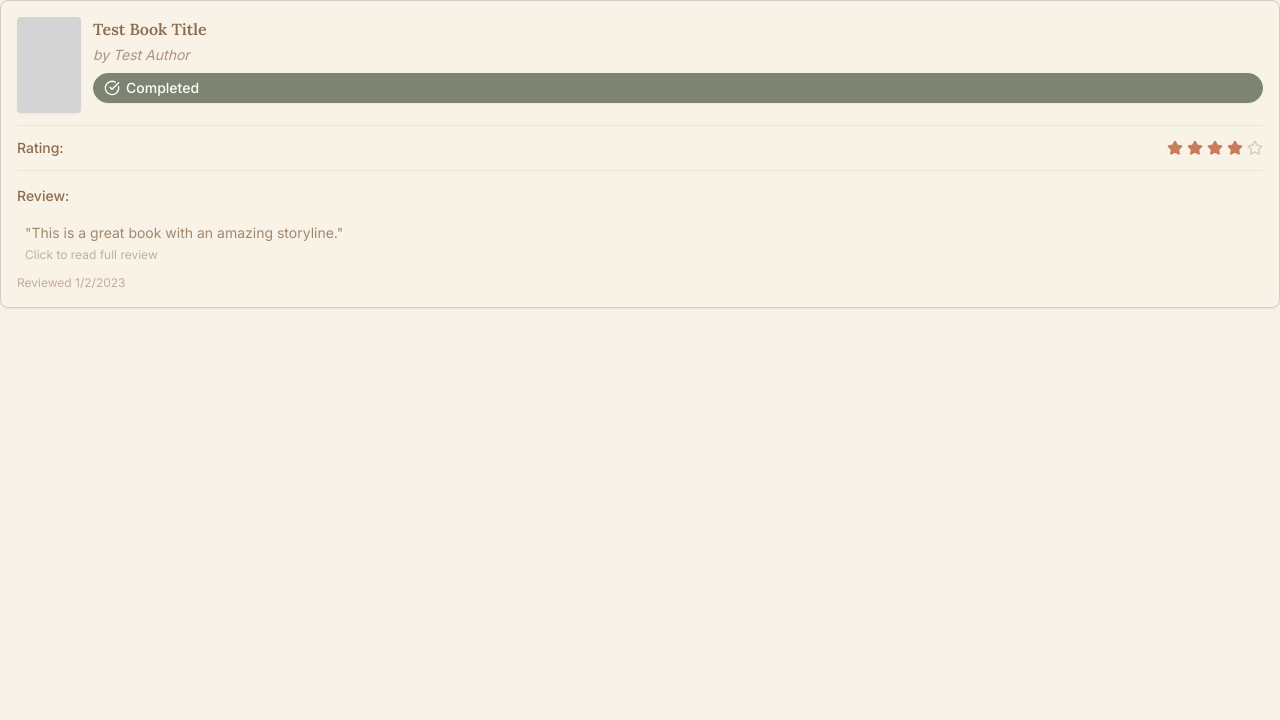
ProfileBookCard Integration › renders book card with public review and opens modal on click
Expected: the heading "Test Book Title" is shown, [93,19,207,39]
Expected: the text "by Test Author" is shown, [93,46,190,63]
Note: Click on review to open modal
Step 1. Click the text "\"This is a great book with an amazing storyline.\"" → (184,232), box [25,224,343,241]
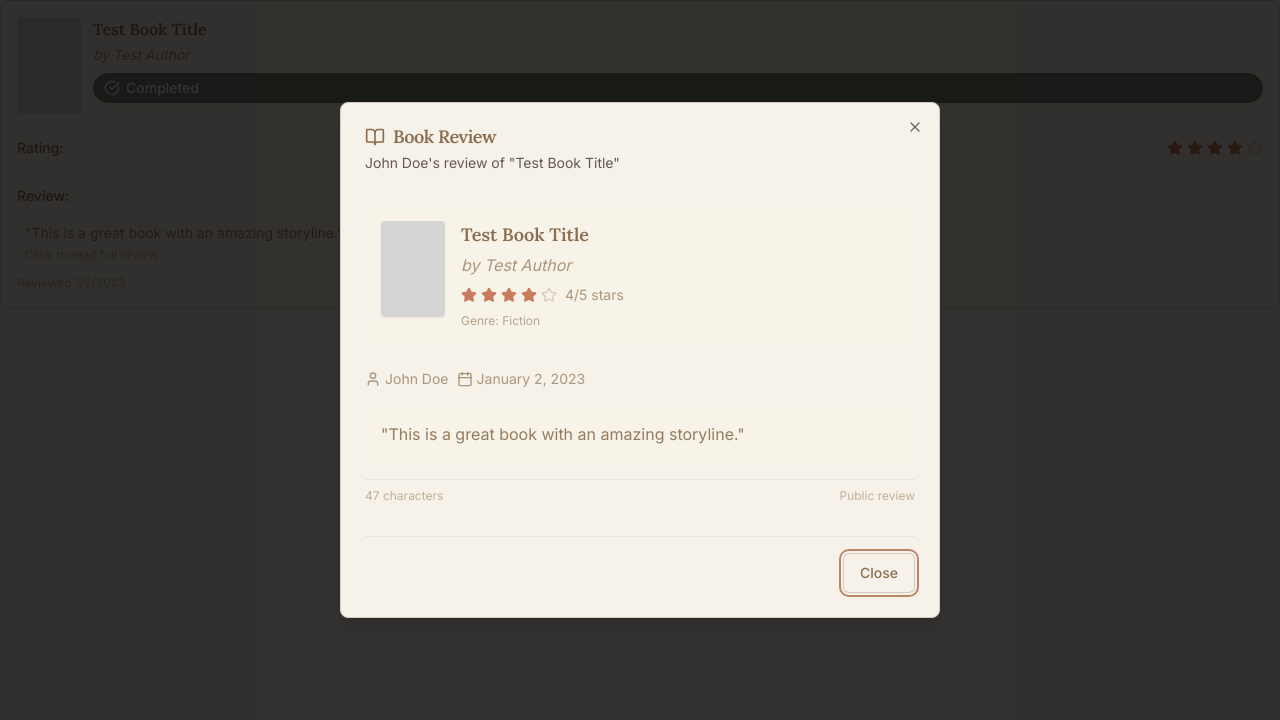
Expected: the heading "Book Review" is shown, [365,125,496,148]
Expected: the text "John Doe's review of \"Test Book Title\"" is shown, [365,154,620,171]
Expected: the text "4/5 stars" is shown, [565,285,624,305]
